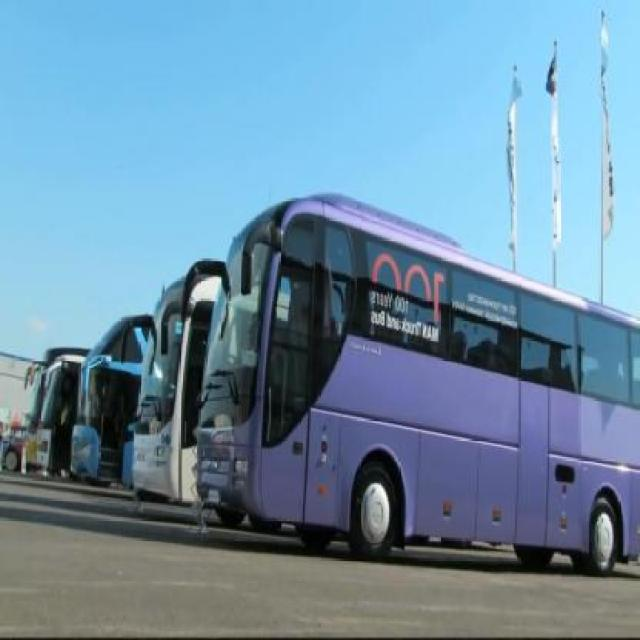bus: (200, 190, 640, 558)
